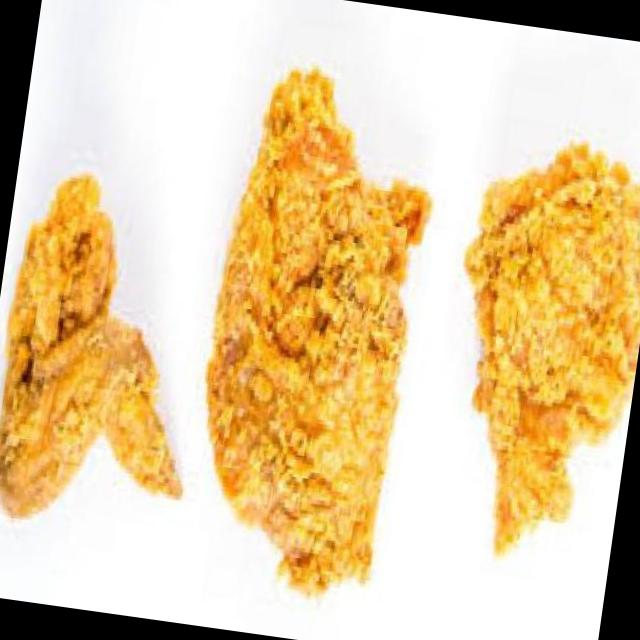Fried Chicken: (205, 67, 433, 598), (465, 140, 640, 553), (0, 171, 179, 519)
